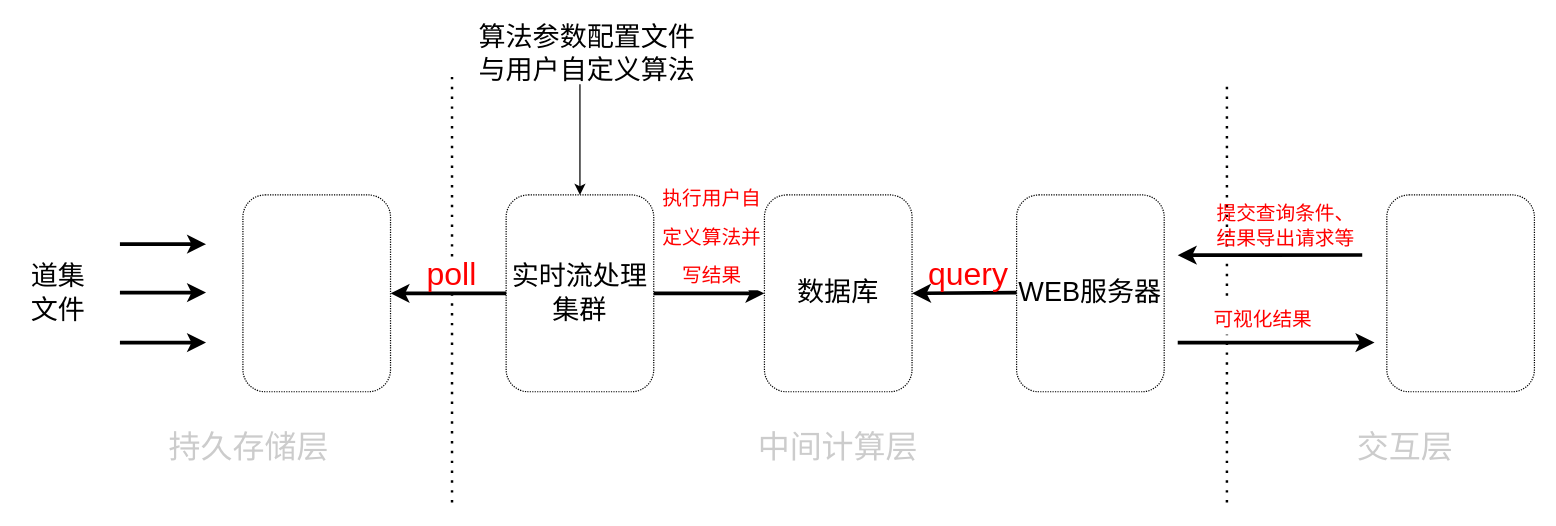
This 1556x526 diagram has some shape labels left out. The centre of each missing label's shape, as x and y in pixels:
"前端展示界面" belongs at point (1460, 293).
"消息队列" belongs at point (316, 293).
